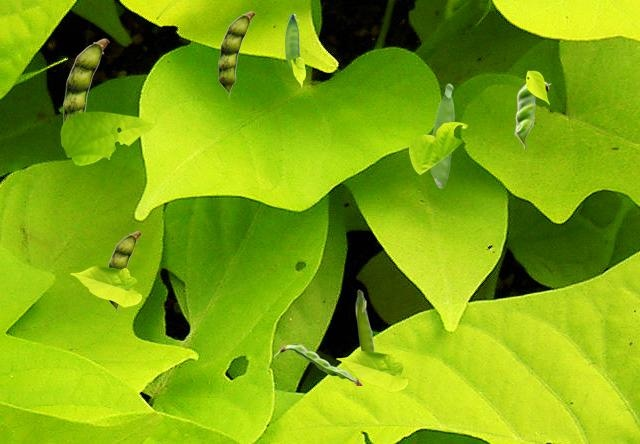pea: (63, 38, 108, 122), (274, 344, 361, 384), (218, 11, 254, 97), (108, 231, 140, 313), (514, 81, 550, 149), (430, 83, 453, 187), (355, 289, 375, 351), (285, 14, 298, 70)
